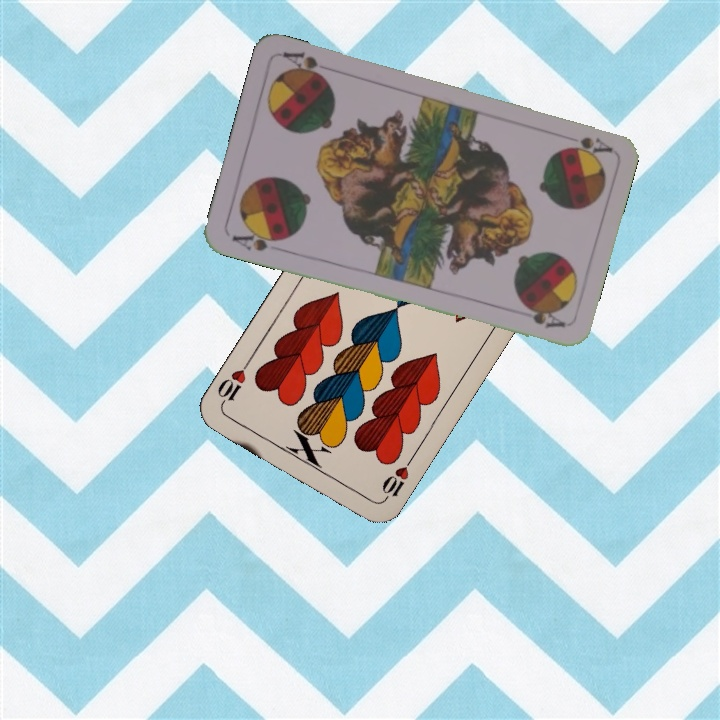H10: (376, 454, 415, 506)
SA: (228, 225, 288, 254), (564, 132, 614, 157)
